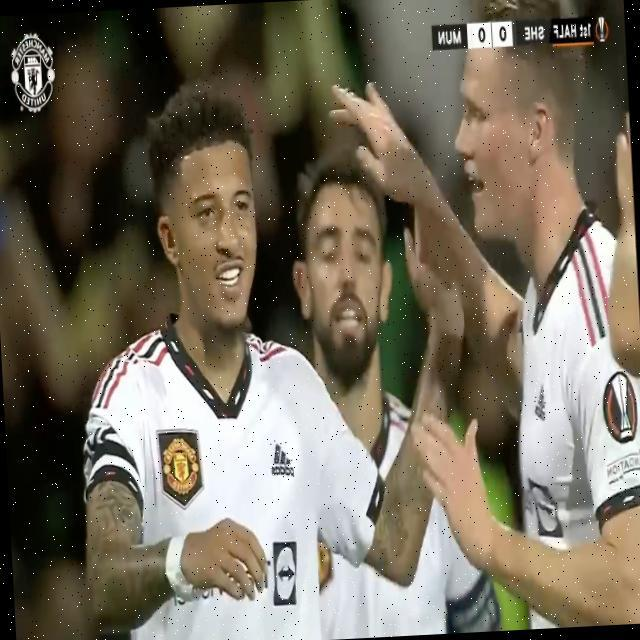Adidas: (268, 440, 294, 479), (531, 381, 548, 422)
